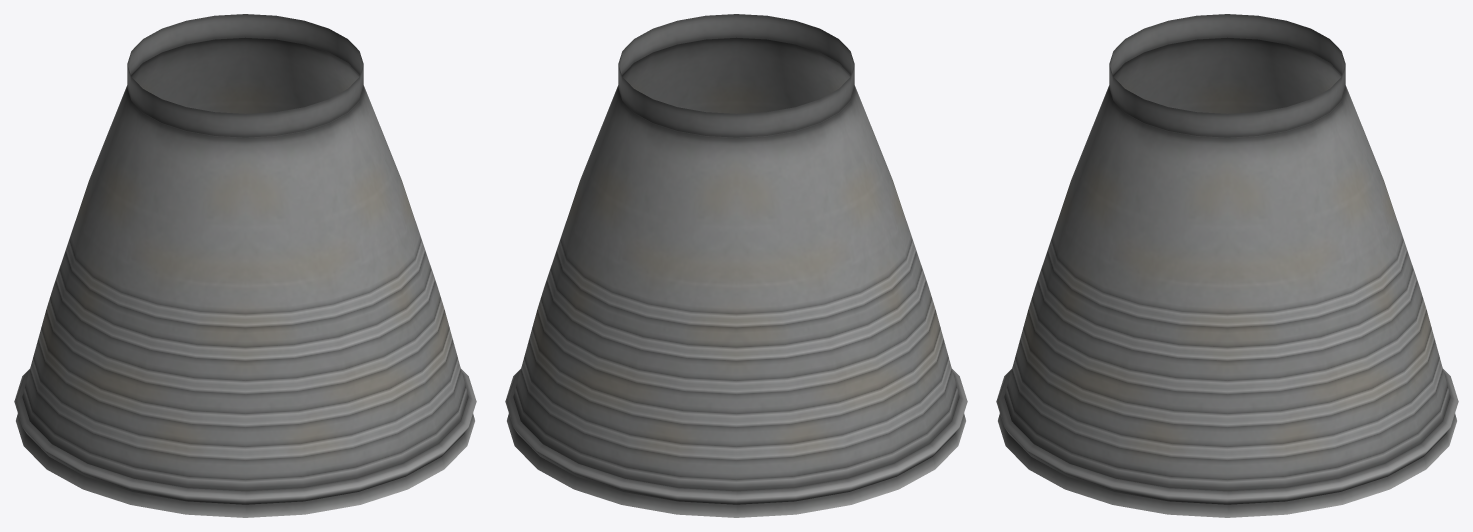
Rendered from ALV_2_Engine_1_Nozzle.obj.
3 renders of one model, left to right at view 1: azimuth 30°, elevation 25°; view 2: azimuth 150°, elevation 25°; view 3: azimuth 270°, elevation 25°, orthographic.
Visible parts, largest first — view 1: ALV_2_Engine_1_Nozzle; view 2: ALV_2_Engine_1_Nozzle; view 3: ALV_2_Engine_1_Nozzle.
Boxes of the visible parts, <box> form: ALV_2_Engine_1_Nozzle: <box>14,14,476,517</box>; ALV_2_Engine_1_Nozzle: <box>505,14,967,517</box>; ALV_2_Engine_1_Nozzle: <box>996,14,1458,517</box>.
Size of the model in its own units: 0.8804 by 0.75 by 0.8804.
